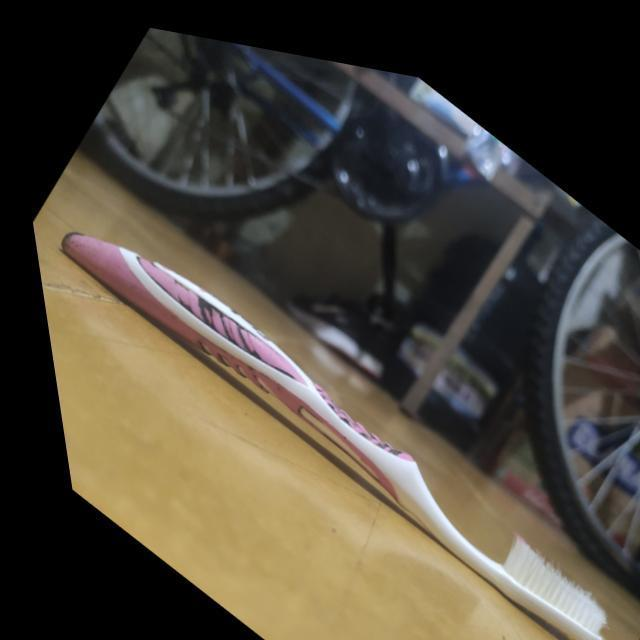toothbrush: (18, 151, 640, 640)
